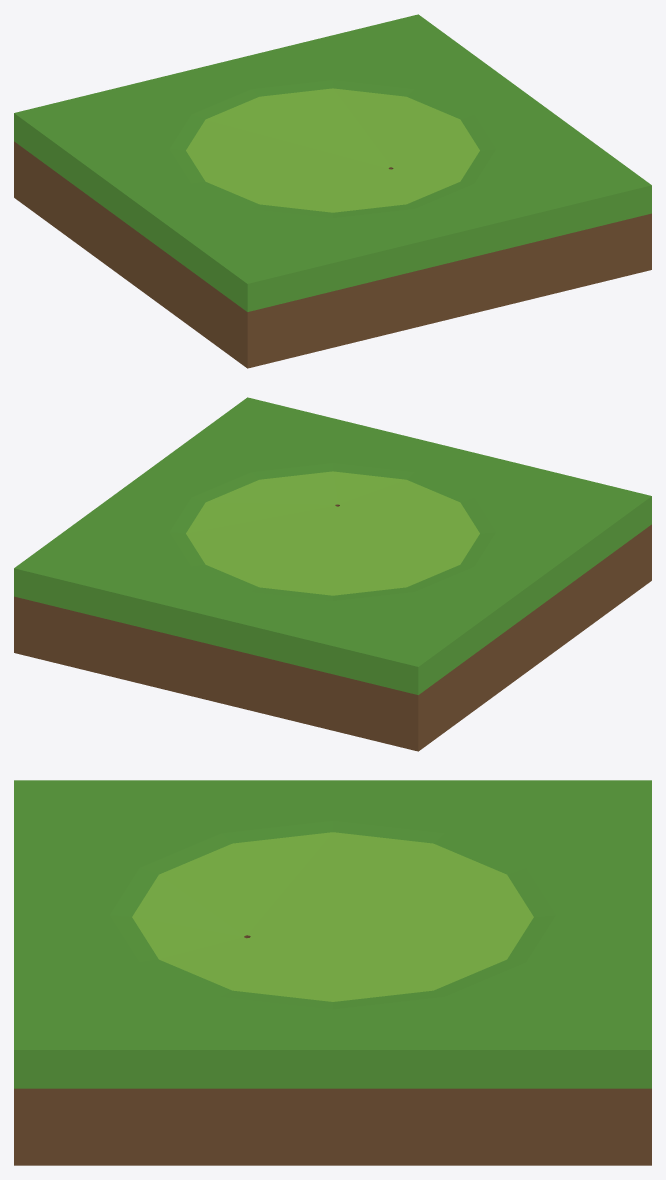
The model's file is tile-golf-green-circle.glb.
The picture shows the model from 3 angles, top to bottom: view 1: azimuth 30°, elevation 25°; view 2: azimuth 150°, elevation 25°; view 3: azimuth 270°, elevation 25°; orthographic projection. The views are drawn at different scales.
Visible parts, largest first — view 1: tile-golf-green-circle; view 2: tile-golf-green-circle; view 3: tile-golf-green-circle.
Part boxes in pixels (left/top/right/bottom): tile-golf-green-circle: left=14, top=14, right=651, bottom=368; tile-golf-green-circle: left=14, top=397, right=651, bottom=751; tile-golf-green-circle: left=14, top=780, right=651, bottom=1165.
Size of the model in its own units: 30 by 6 by 30.
Materials: 1 (1 with a texture image).
